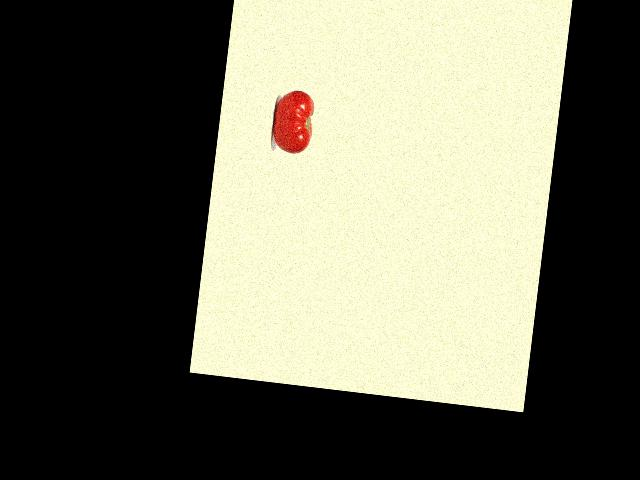tomato: (271, 87, 316, 155)
